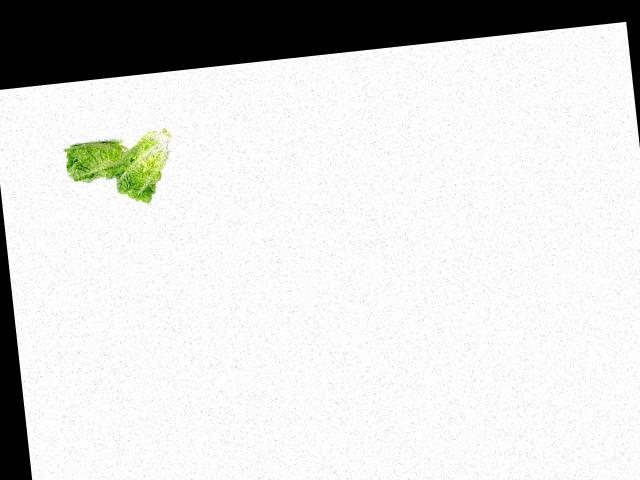lettuce: (102, 122, 180, 205)
